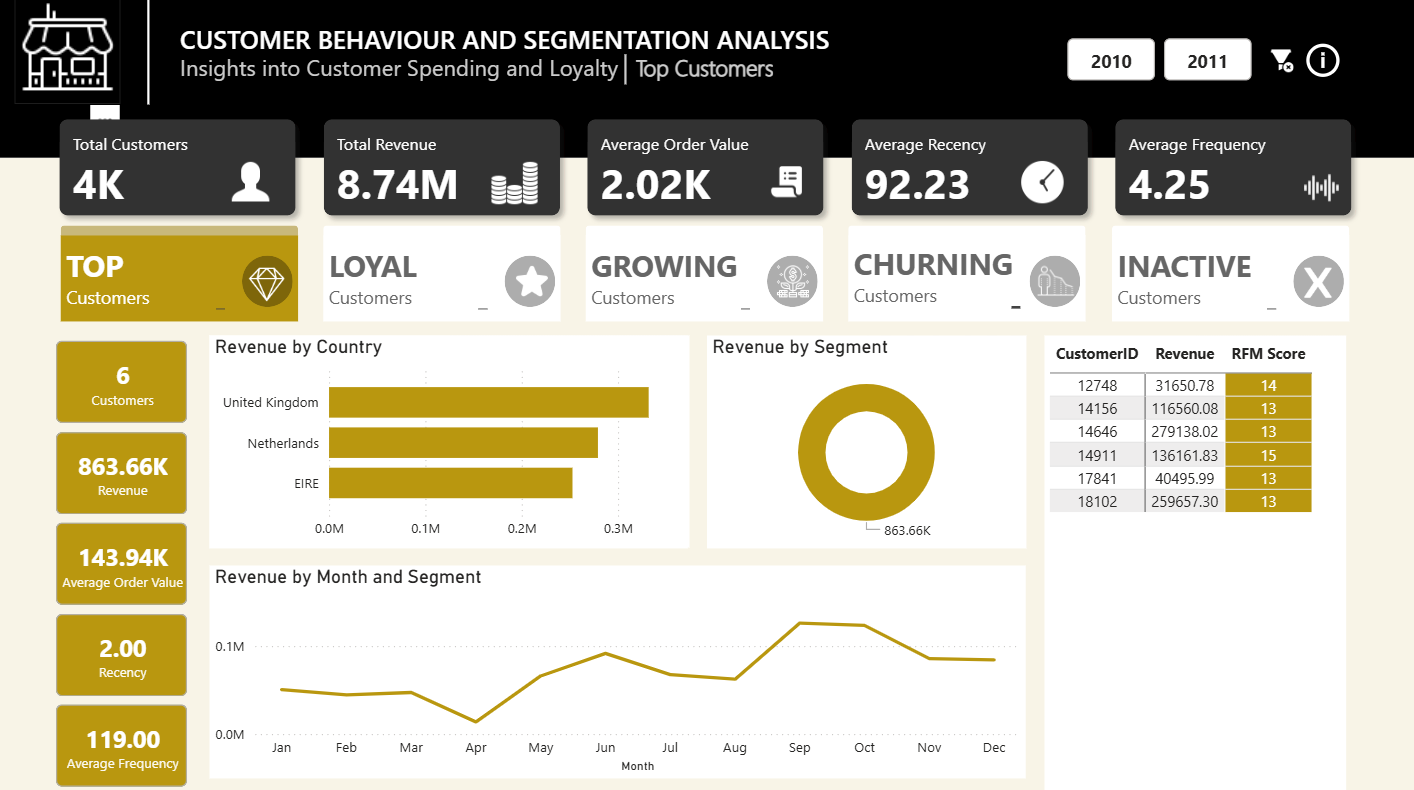

This screenshot's page, from the dashboard's own definition file:
{"tool":"powerbi","page":{"name":"Dashboard","canvas":[1280,720],"ordinal":0},"visuals":[{"type":"group","id":"g1","title":"online_store","box":[0,0,1280.4,720.2],"z":0},{"type":"shape","box":[0,0,1280,720],"z":0,"group":"g1"},{"type":"shape","box":[57,205,215,11.7],"z":0,"group":"g3"},{"type":"shape","box":[294,205,214,11.6],"z":0,"group":"g4"},{"type":"shape","box":[531,205,214,11.6],"z":0,"group":"g5"},{"type":"shape","box":[768,205,214,11.6],"z":0,"group":"g6"},{"type":"shape","box":[1005,205,214,11.6],"z":0,"group":"g7"},{"type":"group","id":"g2","title":"background","box":[0,144,1280,576],"z":1000,"group":"g1"},{"type":"actionButton","box":[288,208,224,80],"z":1000},{"type":"shape","box":[294,213.7,214,77.5],"z":1000,"group":"g4"},{"type":"shape","box":[531,213.7,214,77.5],"z":1000,"group":"g5"},{"type":"shape","box":[768,213.7,214,77.5],"z":1000,"group":"g6"},{"type":"shape","box":[1005,213.7,214,77.5],"z":1000,"group":"g7"},{"type":"shape","box":[57,213.8,215,78],"z":1000,"group":"g3"},{"type":"shape","box":[0,0,1280,144],"z":2000,"group":"g1"},{"type":"actionButton","box":[64,208,208,80],"z":2000},{"type":"textbox","title":"CHURNING","box":[768,221,160,64],"z":2000,"group":"g6"},{"type":"textbox","title":"LOYAL","box":[294,223.4,152.9,62],"z":2000,"group":"g4"},{"type":"textbox","title":"GROWING","box":[531,223.4,152.9,62],"z":2000,"group":"g5"},{"type":"textbox","title":"INACTIVE","box":[1005,223.4,152.9,62],"z":2000,"group":"g7"},{"type":"textbox","title":"TOP","box":[57,223.5,153.6,62.4],"z":2000,"group":"g3"},{"type":"image","title":"logo","box":[16,0,96,96],"z":3000,"group":"g1"},{"type":"actionButton","box":[528,208,224,80],"z":3000},{"type":"shape","box":[457.4,232.1,45.9,46.5],"z":3000,"group":"g4"},{"type":"shape","box":[694.4,232.1,45.9,46.5],"z":3000,"group":"g5"},{"type":"shape","box":[931.4,232.1,45.9,46.5],"z":3000,"group":"g6"},{"type":"shape","box":[1168.4,232.1,45.9,46.5],"z":3000,"group":"g7"},{"type":"shape","box":[221.1,232.3,46.1,46.8],"z":3000,"group":"g3"},{"type":"shape","box":[128,0,16,96],"z":4000,"group":"g1"},{"type":"actionButton","box":[768,208,208,80],"z":4000},{"type":"image","box":[458,232,47,47],"z":4000,"group":"g4"},{"type":"image","box":[932,232,45,45],"z":4000,"group":"g6"},{"type":"image","box":[698,235,40,40],"z":4000,"group":"g5"},{"type":"image","box":[222.1,235.2,43.2,43.9],"z":4000,"group":"g3"},{"type":"image","box":[1171,236,40,40],"z":4000,"group":"g7"},{"type":"cardVisual","title":"segment kpi","fields":{"Data":["Segment_KPI_Measures.Segment_Total_Customers","Segment_KPI_Measures.Segment_Total_Revenue","Segment_KPI_Measures.Segmenta_Average_Order_Value","Segment_KPI_Measures.Segment_Average_Recency","Segment_KPI_Measures.Segment_Average_Frequency"]},"box":[48,304,128,416],"z":4000,"group":"g9"},{"type":"barChart","title":"Revenue by Country","fields":{"Category":["CustomerRFM.Country"],"Y":["Sum(CustomerRFM.TotalSpend)"]},"box":[192,304,432,192],"z":4000,"group":"g8"},{"type":"textbox","title":"CUSTOMER BEHAVIOUR AND SEGMENTATION ANALYSIS","box":[160.5,21.1,607.1,32.3],"z":5000,"group":"g1"},{"type":"actionButton","box":[1008,208,208,80],"z":5000},{"type":"cardVisual","title":"segment kpi","fields":{"Data":["Segment_KPI_Measures.Segment_Total_Customers","Segment_KPI_Measures.Segment_Total_Revenue","Segment_KPI_Measures.Segmenta_Average_Order_Value","Segment_KPI_Measures.Segment_Average_Recency","Segment_KPI_Measures.Segment_Average_Frequency"]},"box":[48,304,128,416],"z":5000,"group":"g9"},{"type":"barChart","title":"Revenue by Country","fields":{"Category":["CustomerRFM.Country"],"Y":["Sum(CustomerRFM.TotalSpend)"]},"box":[192,304,432,192],"z":5000,"group":"g8"},{"type":"actionButton","title":"info btn","box":[1176,28,40,56],"z":6000},{"type":"textbox","title":"Insights into Customer Spending and Loyalty","box":[160,48,736,32],"z":6000,"group":"g1"},{"type":"cardVisual","title":"main kpi","fields":{"Data":["Main_KPI_Measures.Total_Customers","Main_KPI_Measures.Total_Revenue","Main_KPI_Measures.Average_Order_Value","Main_KPI_Measures.Average_Recency","Main_KPI_Measures.Average_Frequency"]},"box":[40,92,1200,121],"z":7000,"group":"g1"},{"type":"actionButton","title":"toolpit_btn_open","box":[1172,32,48,48],"z":8000},{"type":"actionButton","box":[63.4,112,200.3,82.1],"z":9000},{"type":"group","id":"g3","title":"Top_inactive","box":[57,205,215,78],"z":9000,"group":"g1"},{"type":"actionButton","box":[299.8,112,200.3,82.1],"z":10000},{"type":"actionButton","box":[539.9,112,200.3,82.1],"z":11000},{"type":"group","id":"g4","title":"Loyal_inactive","box":[294,205,214,86.2],"z":11000,"group":"g1"},{"type":"actionButton","box":[777.5,112,200.3,82.1],"z":12000},{"type":"actionButton","box":[1013.8,112,200.3,82.1],"z":13000},{"type":"group","id":"g5","title":"Growing_inactive","box":[531,205,214,86.2],"z":13000,"group":"g1"},{"type":"cardVisual","fields":{"Data":["Conditional Formating.ViewingText"]},"box":[559,24,233.9,59.7],"z":14000},{"type":"shape","box":[546,51,42.3,27.4],"z":15000},{"type":"group","id":"g6","title":"Churning_inactive","box":[768,205,214,86.2],"z":15000,"group":"g1"},{"type":"group","id":"g7","title":"Inactive_inactive","box":[1005,205,214,86.2],"z":17000,"group":"g1"},{"type":"lineChart","fields":{"Y":["Sum(OnlineRetail.TotalAmount)"],"Series":["CustomerRFM.Customer_Segment"],"Category":["OnlineRetail.OrderMonthAbbr"]},"box":[192,512,736,192],"z":19000,"group":"g1"},{"type":"donutChart","fields":{"Category":["CustomerRFM.Customer_Segment"],"Y":["Sum(CustomerRFM.TotalSpend)"]},"box":[640,304,288,192],"z":20000,"group":"g1"},{"type":"pivotTable","fields":{"Rows":["CustomerRFM.CustomerID"],"Values":["Sum(CustomerRFM.TotalSpend)","Sum(CustomerRFM.RFM_Score)"]},"box":[944,304,272,416],"z":21000,"group":"g1"},{"type":"advancedSlicerVisual","title":"Year slicer","fields":{"Values":["OnlineRetail.Year"]},"box":[960,32,176,48],"z":22000,"group":"g1"},{"type":"image","title":"clear slicer","box":[1142,16,32,80],"z":23000,"group":"g1"},{"type":"actionButton","title":"info btn","box":[1175,32,32,48],"z":24000,"group":"g1"},{"type":"group","id":"g8","title":"Revenue by country","box":[192,304,432,192],"z":25000,"group":"g1"},{"type":"group","id":"g9","title":"segment kpi","box":[48,304,128,416],"z":26000,"group":"g1"}]}

Visuals, with their boxes in screenshot pixels (x1, y1, x2, y2), scaled from the page's 1280x720 canvas onto the 1414x790 screenshot:
"online_store" group: l=0, t=0, r=1413, b=789
shape: l=0, t=0, r=1413, b=789
shape: l=63, t=225, r=300, b=238
shape: l=325, t=225, r=561, b=238
shape: l=587, t=225, r=823, b=238
shape: l=848, t=225, r=1085, b=238
shape: l=1110, t=225, r=1347, b=238
"background" group: l=0, t=158, r=1413, b=789
actionButton: l=318, t=228, r=566, b=316
shape: l=325, t=234, r=561, b=320
shape: l=587, t=234, r=823, b=320
shape: l=848, t=234, r=1085, b=320
shape: l=1110, t=234, r=1347, b=320
shape: l=63, t=235, r=300, b=320
shape: l=0, t=0, r=1413, b=158
actionButton: l=71, t=228, r=300, b=316
"CHURNING" textbox: l=848, t=242, r=1025, b=313
"LOYAL" textbox: l=325, t=245, r=494, b=313
"GROWING" textbox: l=587, t=245, r=755, b=313
"INACTIVE" textbox: l=1110, t=245, r=1279, b=313
"TOP" textbox: l=63, t=245, r=233, b=314
"logo" image: l=18, t=0, r=124, b=105
actionButton: l=583, t=228, r=831, b=316
shape: l=505, t=255, r=556, b=306
shape: l=767, t=255, r=818, b=306
shape: l=1029, t=255, r=1080, b=306
shape: l=1291, t=255, r=1341, b=306
shape: l=244, t=255, r=295, b=306
shape: l=141, t=0, r=159, b=105
actionButton: l=848, t=228, r=1078, b=316
image: l=506, t=255, r=558, b=306
image: l=1030, t=255, r=1079, b=304
image: l=771, t=258, r=815, b=302
image: l=245, t=258, r=293, b=306
image: l=1294, t=259, r=1338, b=303
"segment kpi" cardVisual: l=53, t=334, r=194, b=789
"Revenue by Country" barChart: l=212, t=334, r=689, b=544
"CUSTOMER BEHAVIOUR AND SEGMENTATION ANALYSIS" textbox: l=177, t=23, r=848, b=59
actionButton: l=1114, t=228, r=1343, b=316
"segment kpi" cardVisual: l=53, t=334, r=194, b=789
"Revenue by Country" barChart: l=212, t=334, r=689, b=544
"info btn" actionButton: l=1299, t=31, r=1343, b=92
"Insights into Customer Spending and Loyalty" textbox: l=177, t=53, r=990, b=88
"main kpi" cardVisual: l=44, t=101, r=1370, b=234
"toolpit_btn_open" actionButton: l=1295, t=35, r=1348, b=88
actionButton: l=70, t=123, r=291, b=213
"Top_inactive" group: l=63, t=225, r=300, b=311
actionButton: l=331, t=123, r=552, b=213
actionButton: l=596, t=123, r=818, b=213
"Loyal_inactive" group: l=325, t=225, r=561, b=320
actionButton: l=859, t=123, r=1080, b=213
actionButton: l=1120, t=123, r=1341, b=213
"Growing_inactive" group: l=587, t=225, r=823, b=320
cardVisual - Conditional Formating.ViewingText: l=618, t=26, r=876, b=92
shape: l=603, t=56, r=650, b=86
"Churning_inactive" group: l=848, t=225, r=1085, b=320
"Inactive_inactive" group: l=1110, t=225, r=1347, b=320
lineChart - Sum(OnlineRetail.TotalAmount) x CustomerRFM.Customer_Segment: l=212, t=562, r=1025, b=772
donutChart - CustomerRFM.Customer_Segment x Sum(CustomerRFM.TotalSpend): l=707, t=334, r=1025, b=544
pivotTable - CustomerRFM.CustomerID x Sum(CustomerRFM.TotalSpend): l=1043, t=334, r=1343, b=789
"Year slicer" advancedSlicerVisual: l=1060, t=35, r=1255, b=88
"clear slicer" image: l=1262, t=18, r=1297, b=105
"info btn" actionButton: l=1298, t=35, r=1333, b=88
"Revenue by country" group: l=212, t=334, r=689, b=544
"segment kpi" group: l=53, t=334, r=194, b=789
